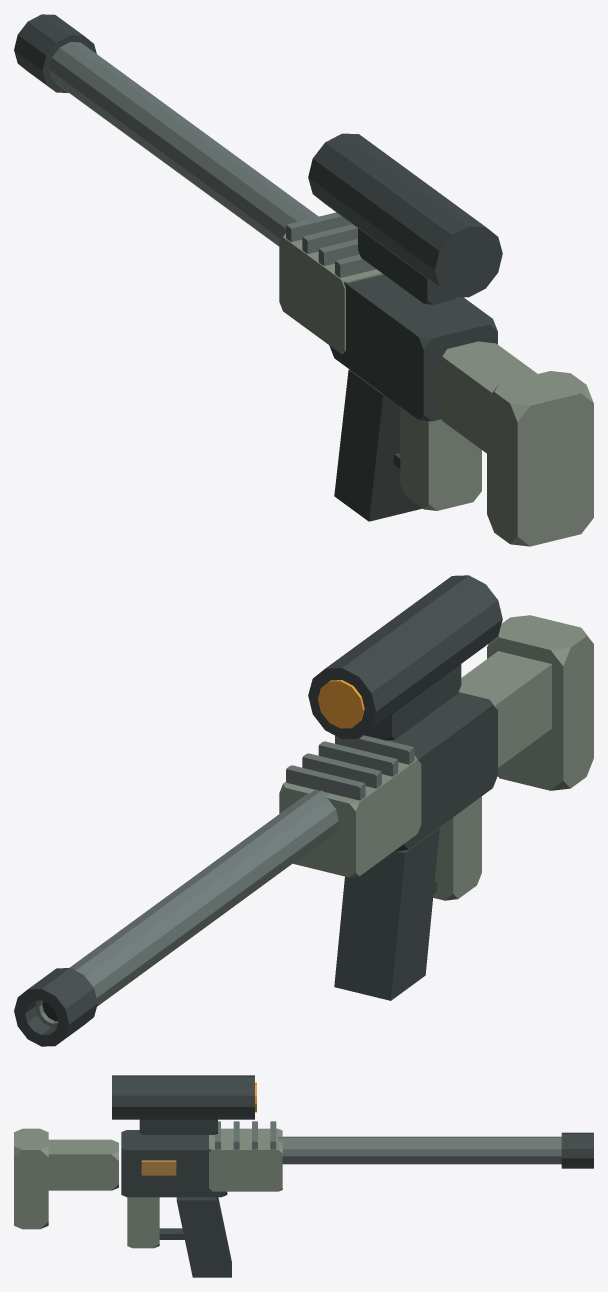
The model's file is weapon_sniper.glb.
3 renders of one model, top to bottom at view 1: azimuth 30°, elevation 25°; view 2: azimuth 150°, elevation 25°; view 3: azimuth 270°, elevation 25°, orthographic. The views are drawn at different scales.
Parts seen in each view (by area): view 1: weapon_sniper; view 2: weapon_sniper; view 3: weapon_sniper.
Boxes of the visible parts, x1,y1,x2,y2 form: weapon_sniper: (14,14,593,546); weapon_sniper: (14,575,593,1046); weapon_sniper: (14,1075,593,1277).
Bounding box in the file's own units: 0.1154 × 0.4595 × 1.26.
